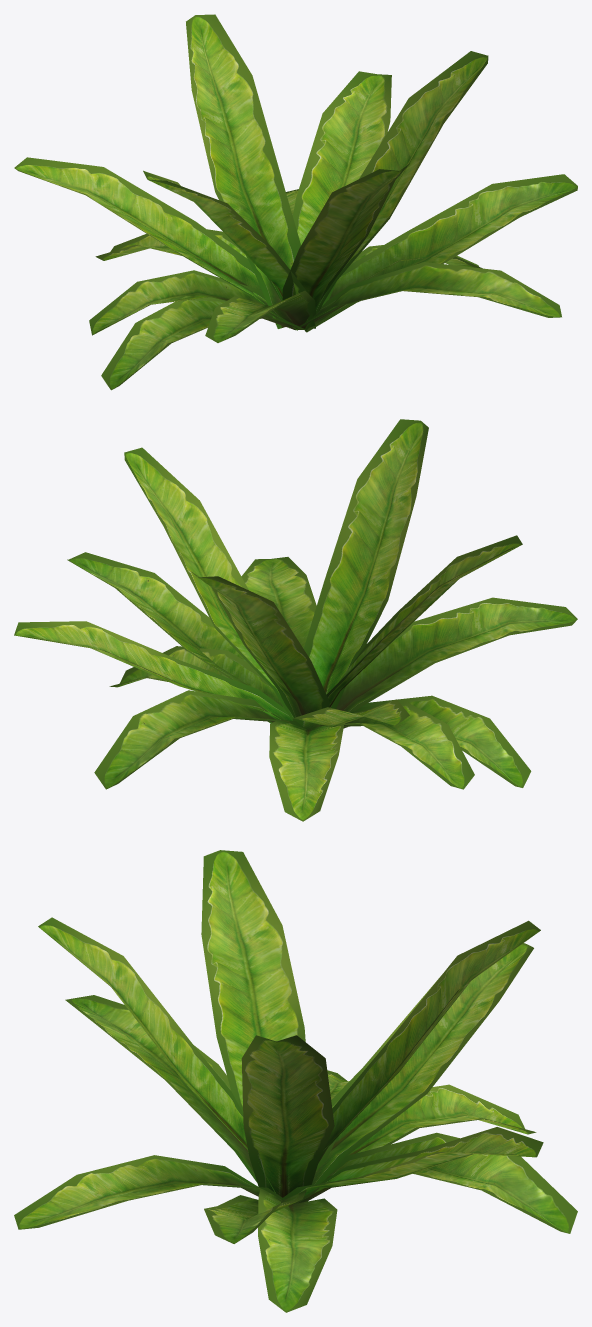
The model's file is Asplenium antiquum Makino.FBX.
3 renders of one model, top to bottom at view 1: azimuth 30°, elevation 25°; view 2: azimuth 150°, elevation 25°; view 3: azimuth 270°, elevation 25°, orthographic. The views are drawn at different scales.
Visible parts, largest first — view 1: Plane562; view 2: Plane562; view 3: Plane562.
Part boxes in pixels (x1,y1,x2,y2): Plane562: [14, 14, 577, 390]; Plane562: [14, 419, 577, 821]; Plane562: [14, 850, 577, 1312].
Bounding box in the file's own units: 141 × 71.78 × 127.
